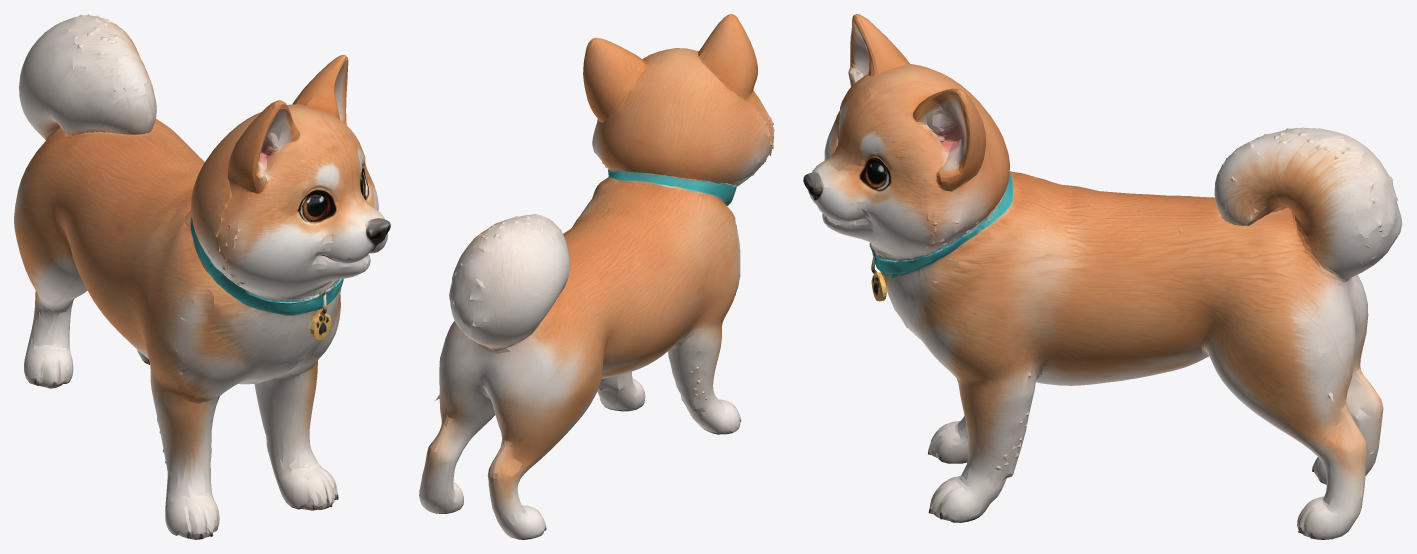
Rendered from rodin-detail.glb.
3 views of the same model, side by side, from view 1: azimuth 30°, elevation 25°; view 2: azimuth 150°, elevation 25°; view 3: azimuth 270°, elevation 25° (orthographic). The views are drawn at different scales.
Parts seen in each view (by area): view 1: model; view 2: model; view 3: model.
Part boxes in pixels (x1=…): model: x1=14, y1=14, x2=390, y2=539; model: x1=419, y1=14, x2=774, y2=539; model: x1=803, y1=14, x2=1402, y2=539.
Size of the model in its own units: 0.7424 by 1.61 by 1.9.
1 material, 1 textured.
